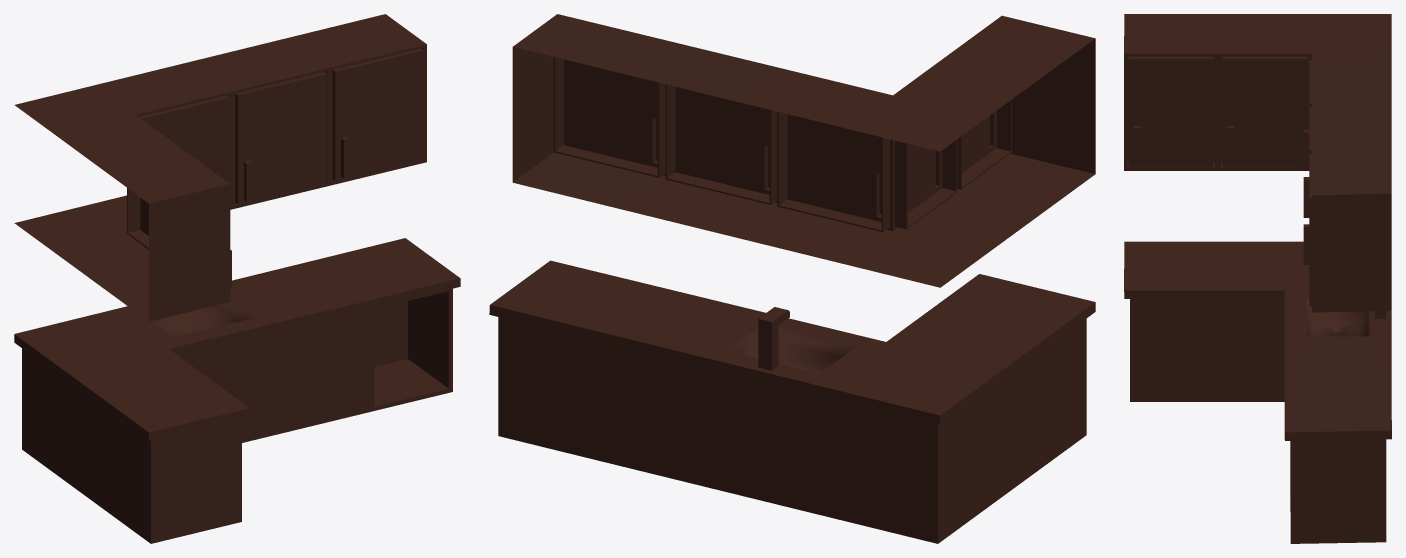
Rendered from Kitchen.fbx.
3 renders of one model, left to right at view 1: azimuth 30°, elevation 25°; view 2: azimuth 150°, elevation 25°; view 3: azimuth 270°, elevation 25°, orthographic. The views are drawn at different scales.
Parts seen in each view (by area): view 1: Kitchen; view 2: Kitchen; view 3: Kitchen.
Part boxes in pixels (<box>): Kitchen: <box>14,14,460,543</box>; Kitchen: <box>489,14,1095,543</box>; Kitchen: <box>1124,14,1391,543</box>.
Size of the model in its own units: 232 by 195 by 138.
